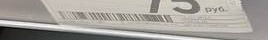1d: (53, 9, 173, 23)
